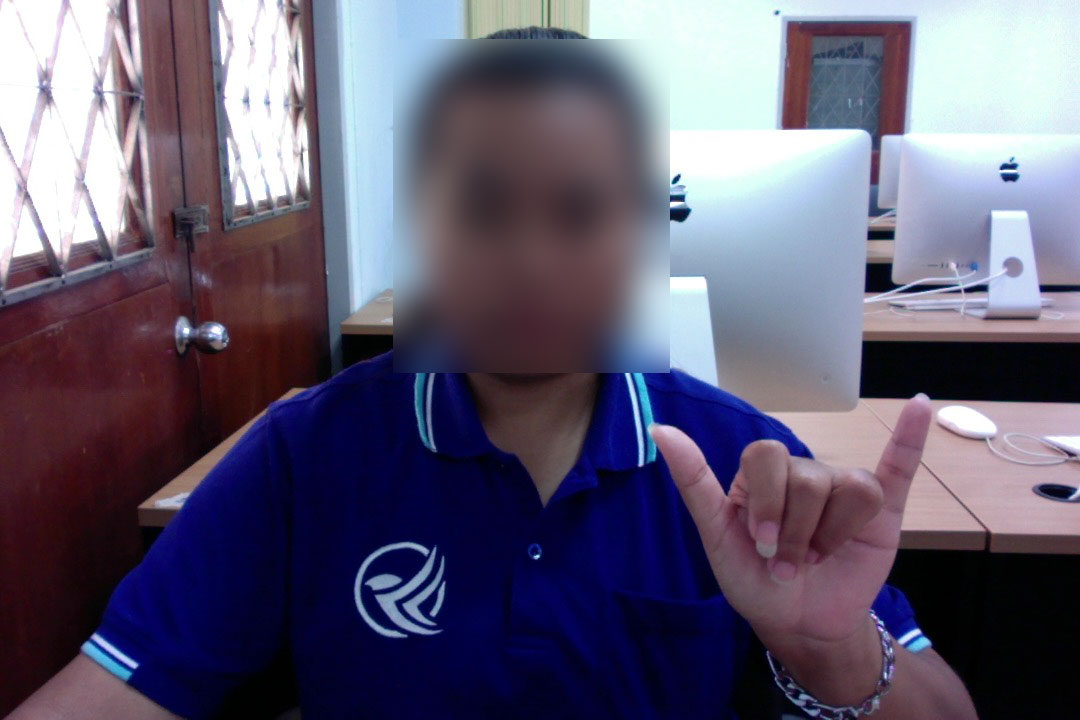yor: (638, 387, 947, 668)
